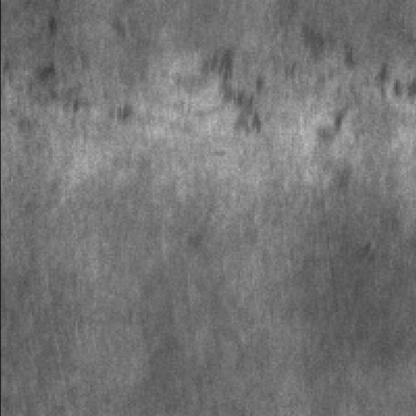rolled-in_scale: (198, 31, 414, 148), (19, 25, 133, 131)
